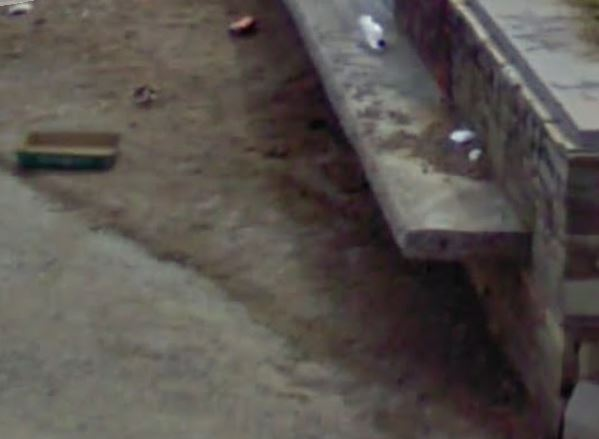trash: (16, 119, 127, 176), (446, 118, 488, 177), (355, 8, 394, 50), (222, 7, 263, 39), (127, 76, 159, 111)
